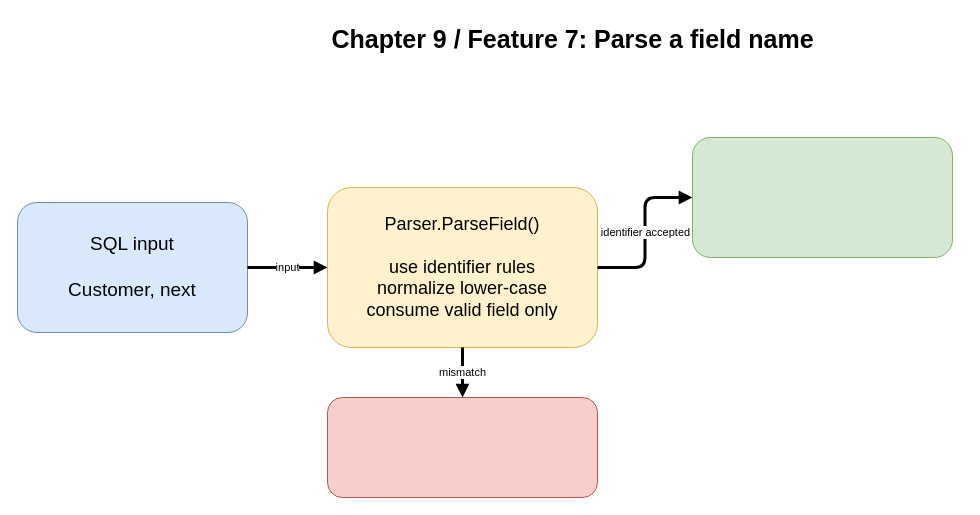
Image size: 980x515. Some labels were removed from this diagram. Here are the shapes that lost their labels. From the top down, the box of each, then its label:
(692, 136, 952, 258): field = customer next token = comma
(326, 396, 598, 498): reserved or invalid token byte-positioned error cursor remains unchanged
